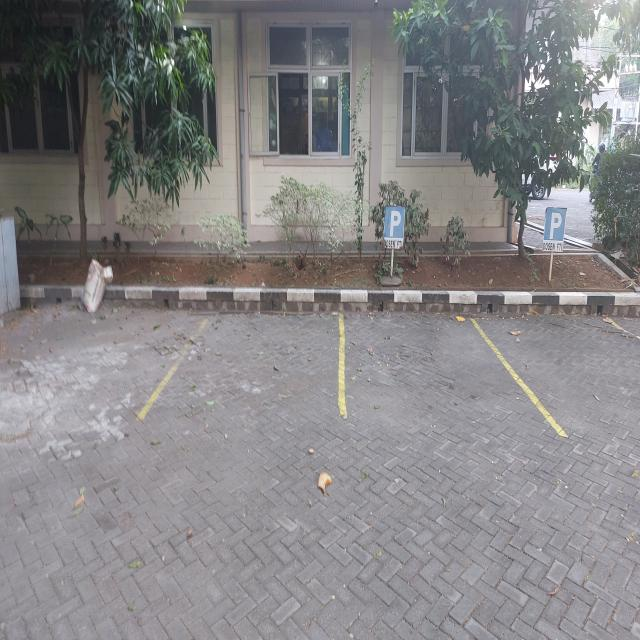empty: (341, 314, 568, 438), (137, 311, 343, 418), (471, 316, 640, 438)
